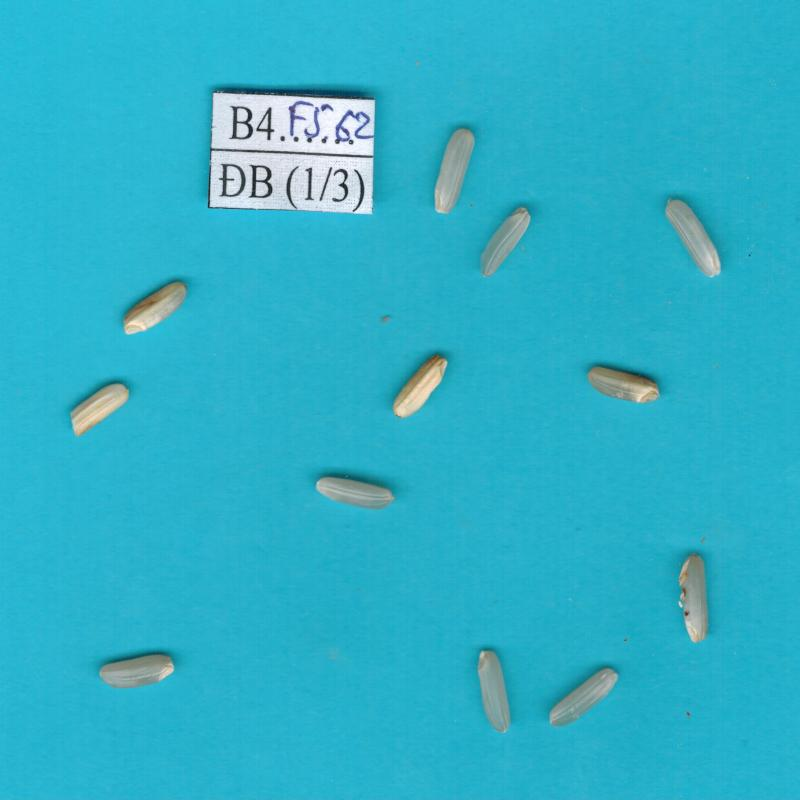Inferior: (393, 356, 447, 418), (71, 383, 129, 437)
Rice: (665, 199, 721, 278), (549, 668, 618, 727), (481, 208, 531, 276), (434, 129, 474, 214), (123, 282, 186, 334), (478, 650, 510, 733), (587, 366, 658, 403), (99, 655, 175, 689), (316, 477, 396, 509), (682, 554, 707, 642)
